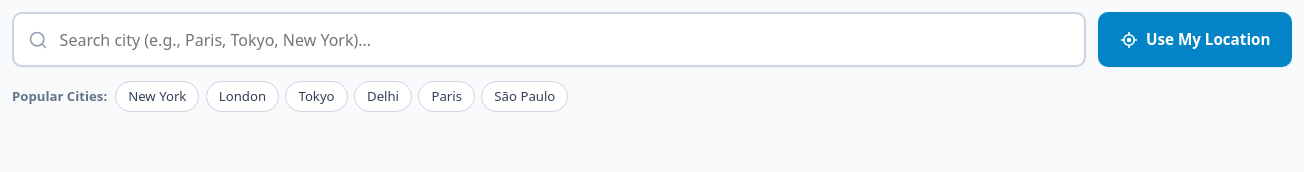
SearchBar Component › clears input when clear button is clicked
Type "Rome" into the dropdown with placeholder "Search city (e.g., Paris, Tokyo, New York)..." at (549, 40), box [12,12,1086,67]
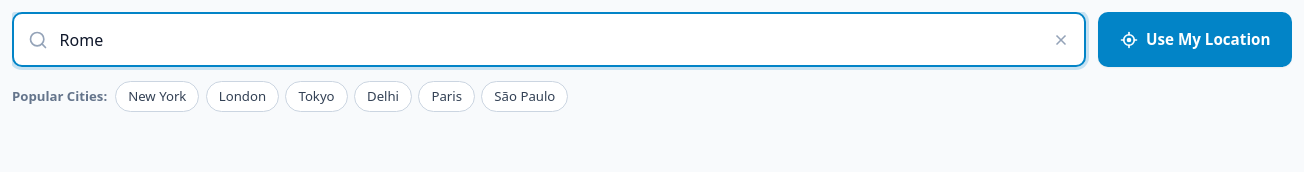
Click the button named "clear city search input" at (1061, 40), box [1049,28,1073,52]
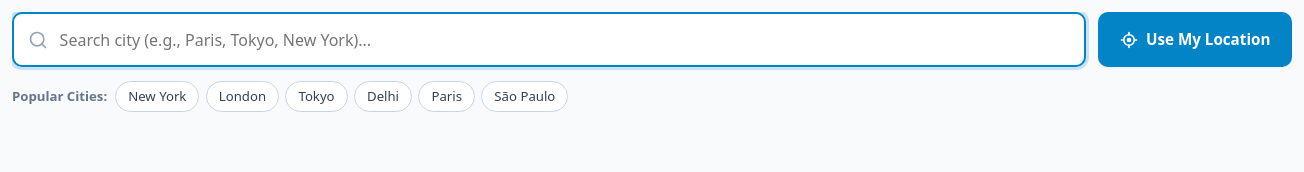
Expected: the dropdown with placeholder "Search city (e.g., Paris, Tokyo, New York)..." is empty, [12,12,1086,67]
